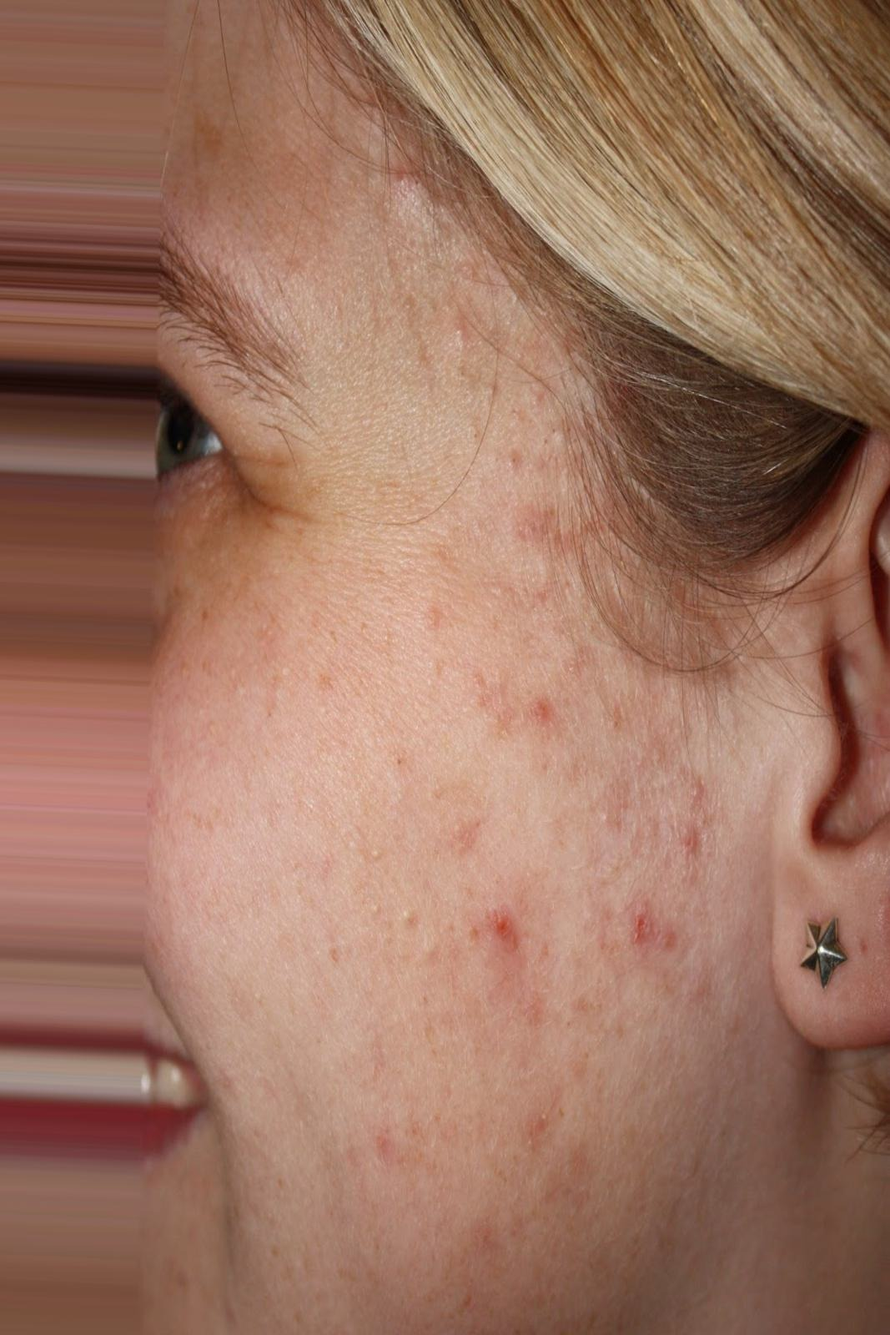Acne: (339, 247, 708, 1260)
